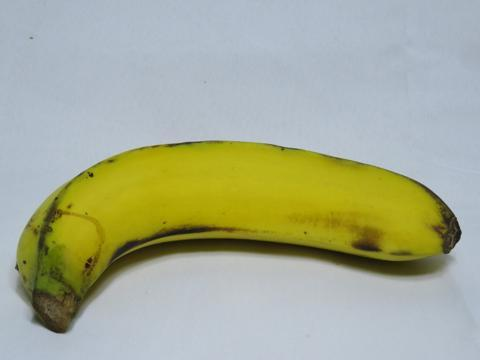freshripe: (8, 128, 458, 332)
